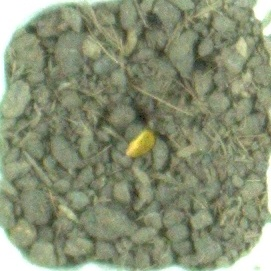pepper seed: (47, 49, 204, 209)
